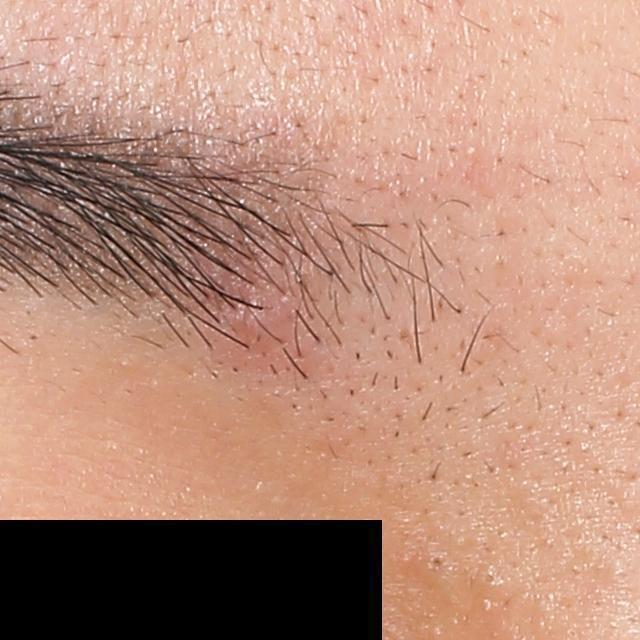comedo: (417, 542, 453, 580)
